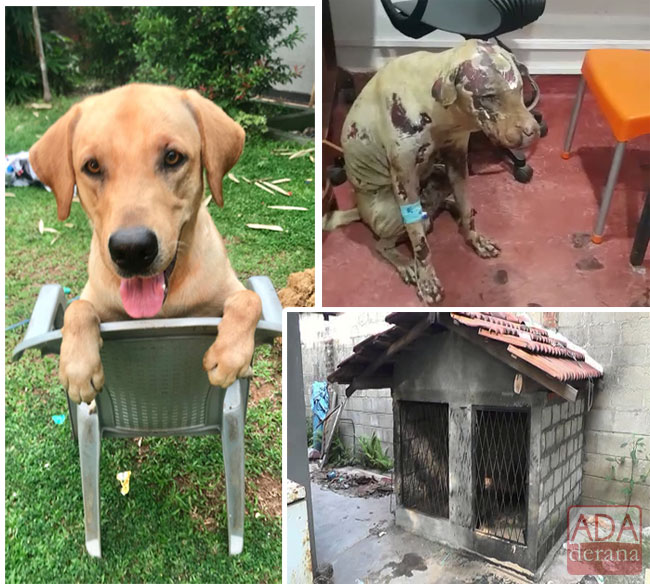Dog: (31, 40, 270, 344)
